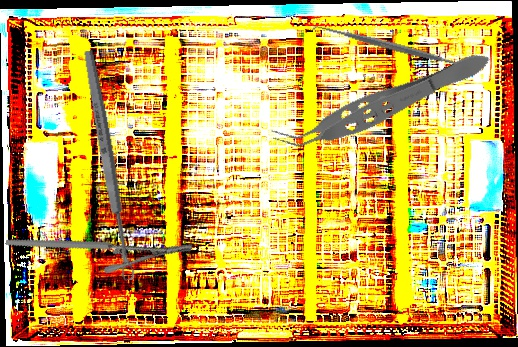Needle Holder: (4, 181, 194, 308)
Spatula Surgical: (310, 15, 480, 78)
Surgical Spoon: (80, 49, 137, 282)
Tissue Forceps: (267, 40, 497, 166)
